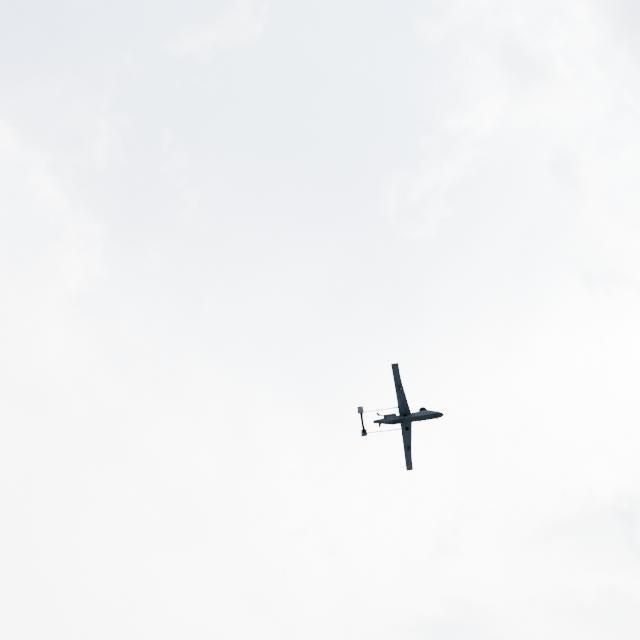Airaplan: (357, 363, 445, 471)
